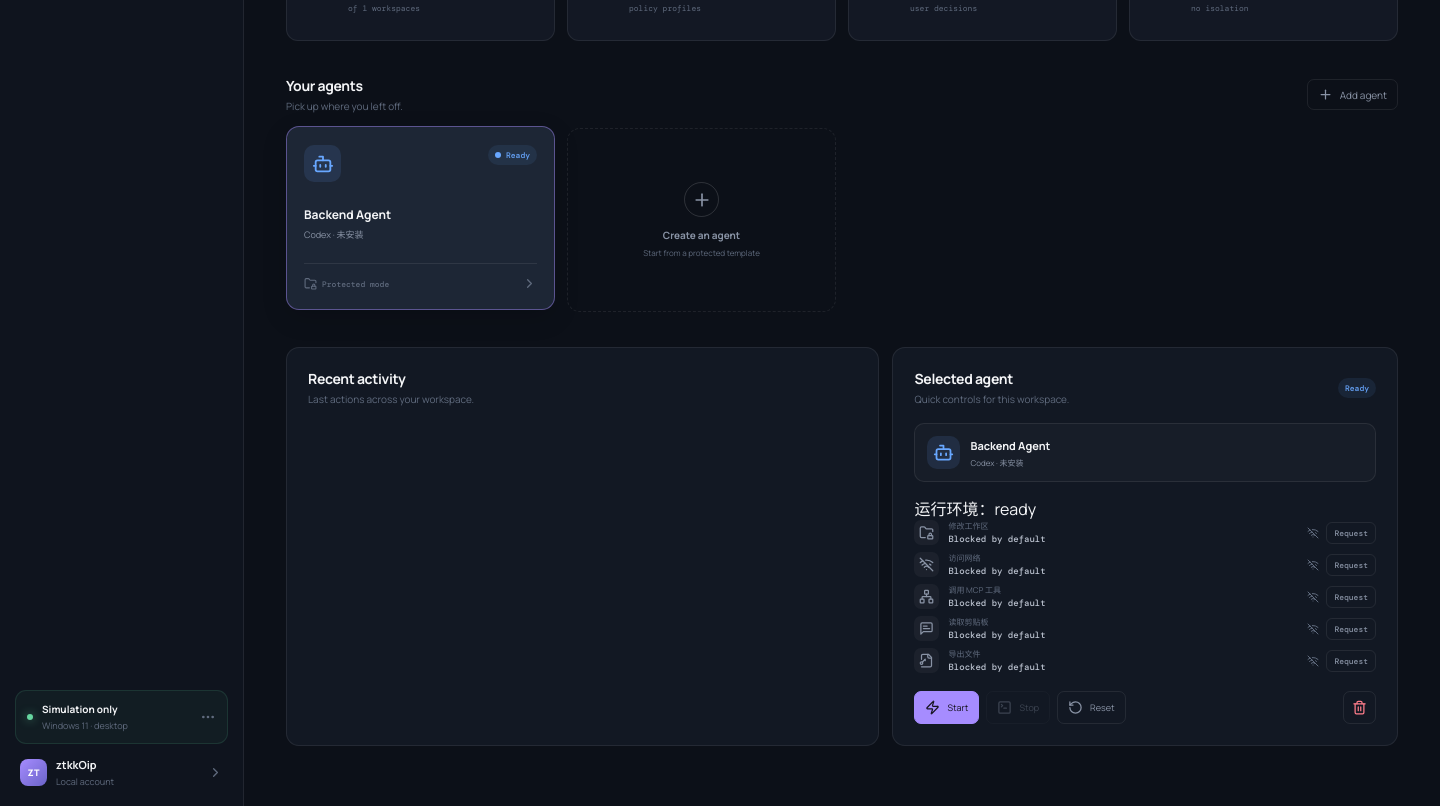
Test: console runtime UI › uses approval responses for permission changes, then revocation and deletion
(page scrolled)
Expected: the button "Start" is shown, [914,691,980,724]
What coordinates should you click on to do the following:
click the button "Request" in the row of "访问网络"
I would click on:
 (1351, 565)
Its box is [1326,554,1376,576].
(page scrolled)
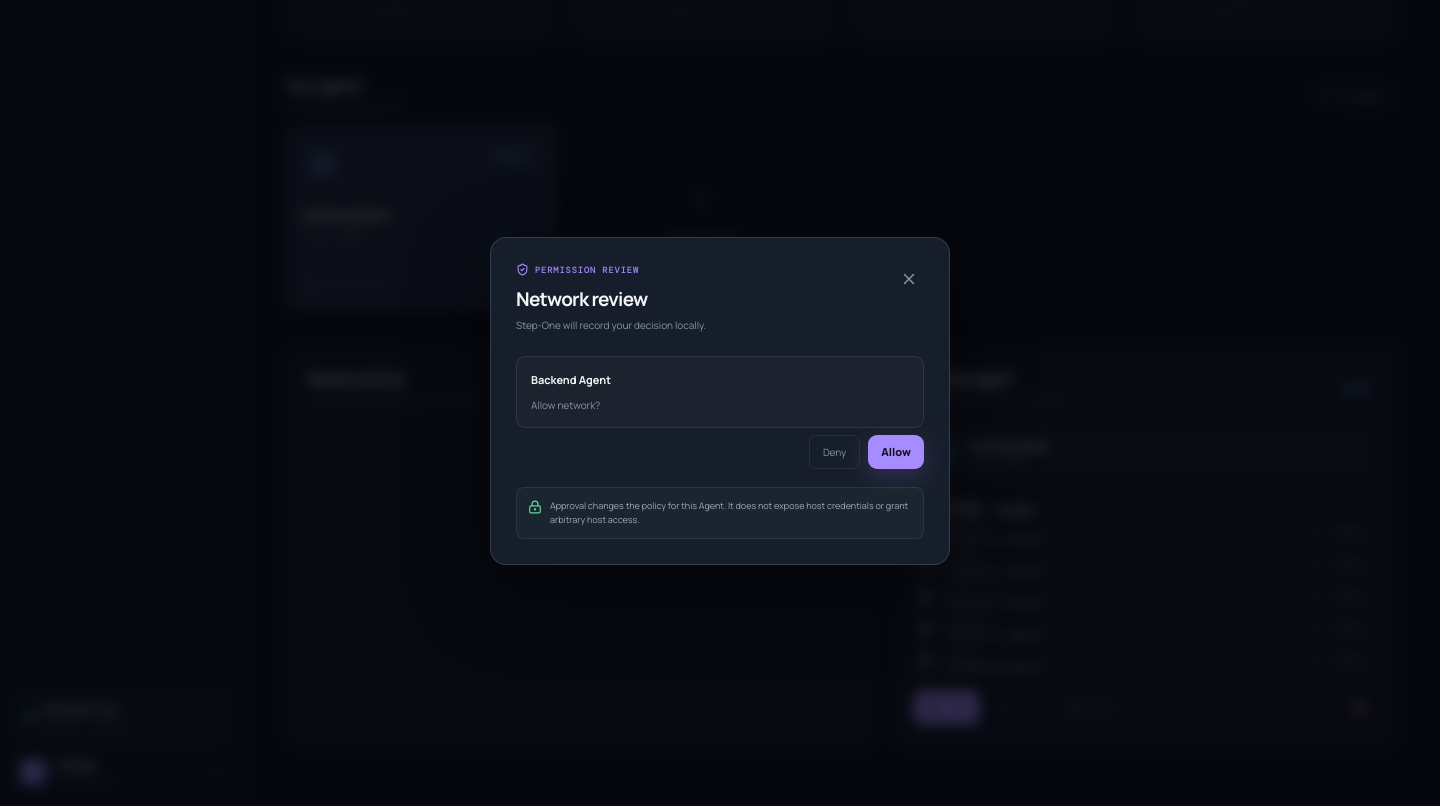
What coordinates should you click on to do the following:
click the button "Allow"
I would click on:
 (896, 452)
Its box is [868,435,924,469].
(page scrolled)
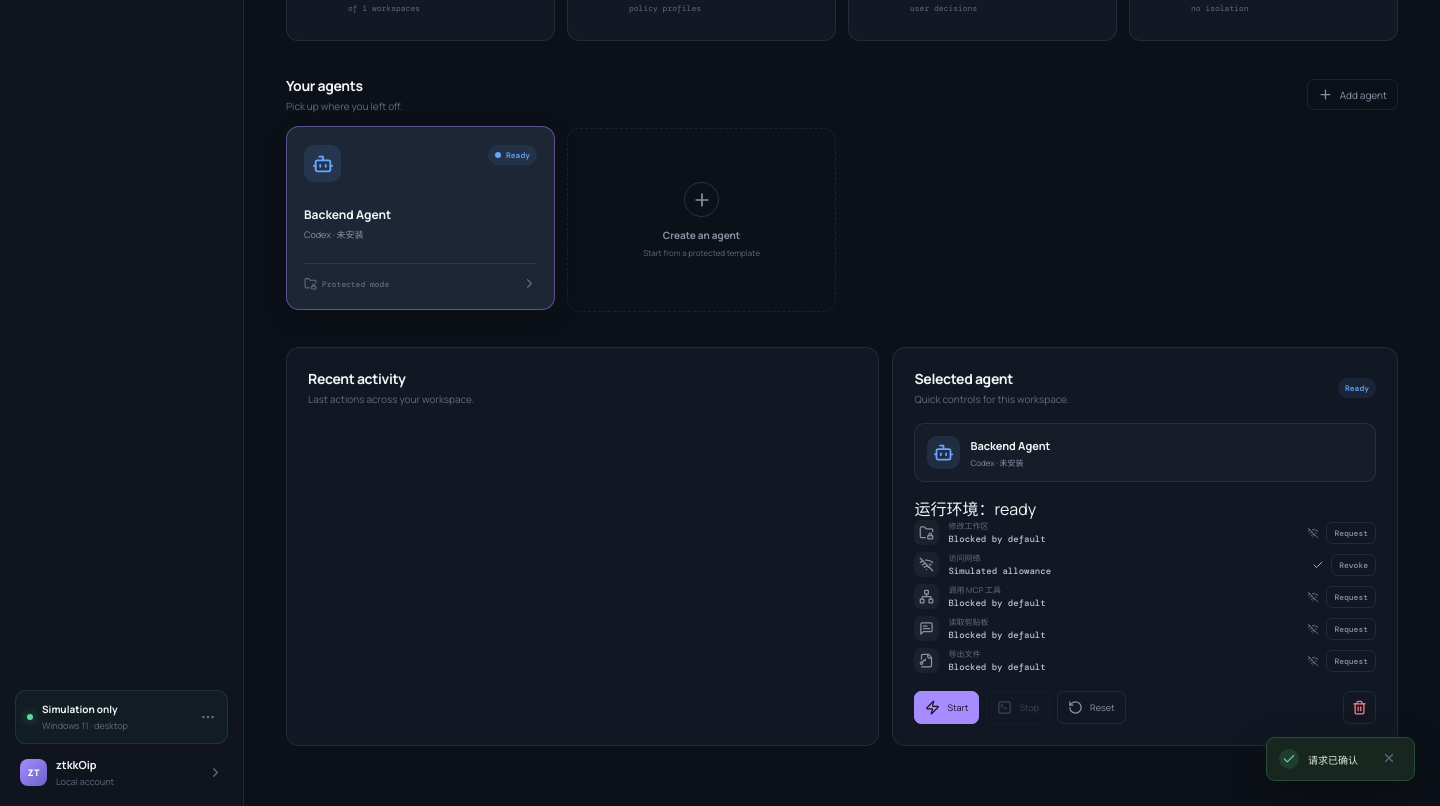
Expected: the text "Simulated allowance" is shown, [948,565,1051,577]
What coordinates should you click on to do the following:
click the button "Revoke"
I would click on:
 (1354, 565)
Its box is [1331,554,1376,576].
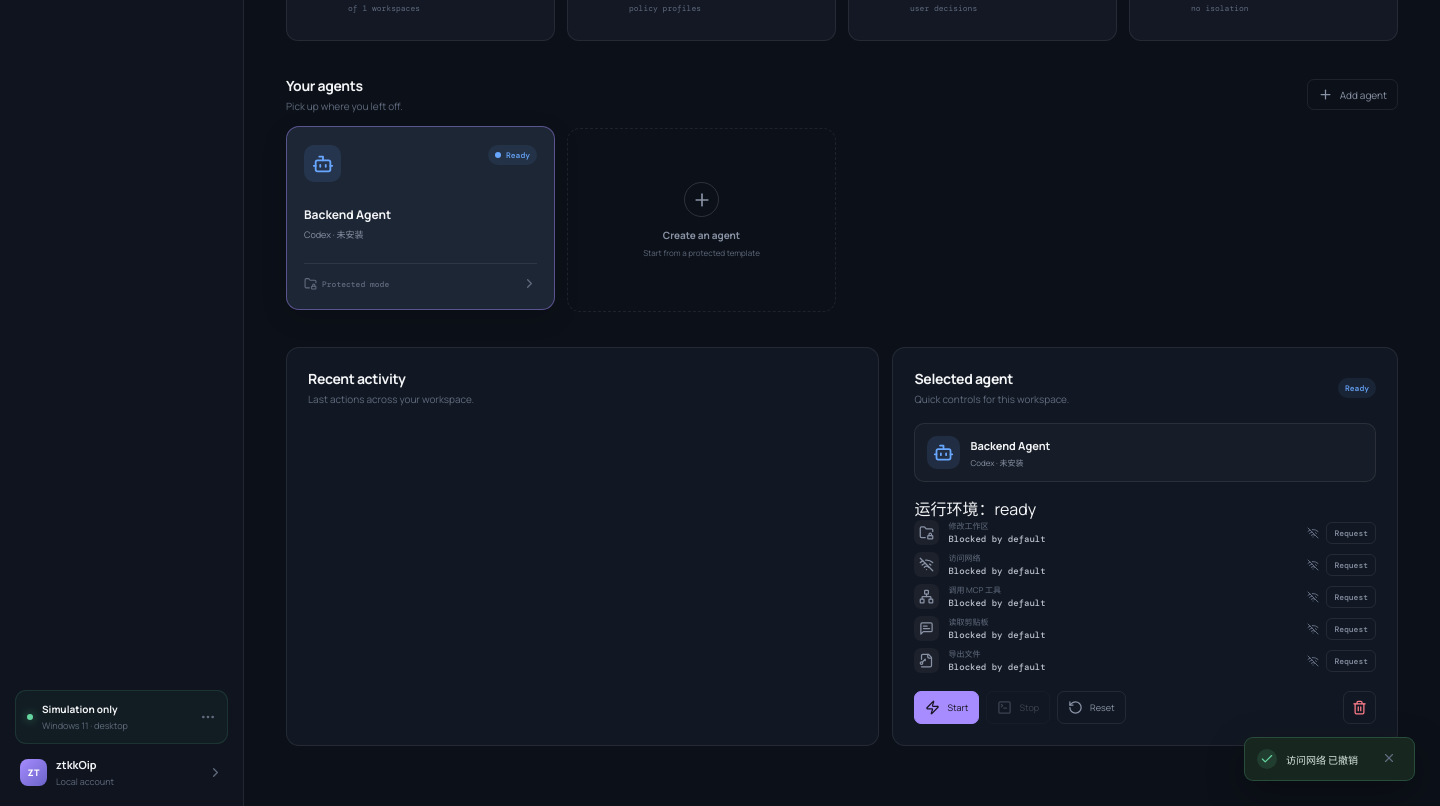
What coordinates should you click on to do the following:
click the button named "Delete agent"
I would click on:
 (1360, 708)
Its box is [1343,691,1376,724].
(page scrolled)
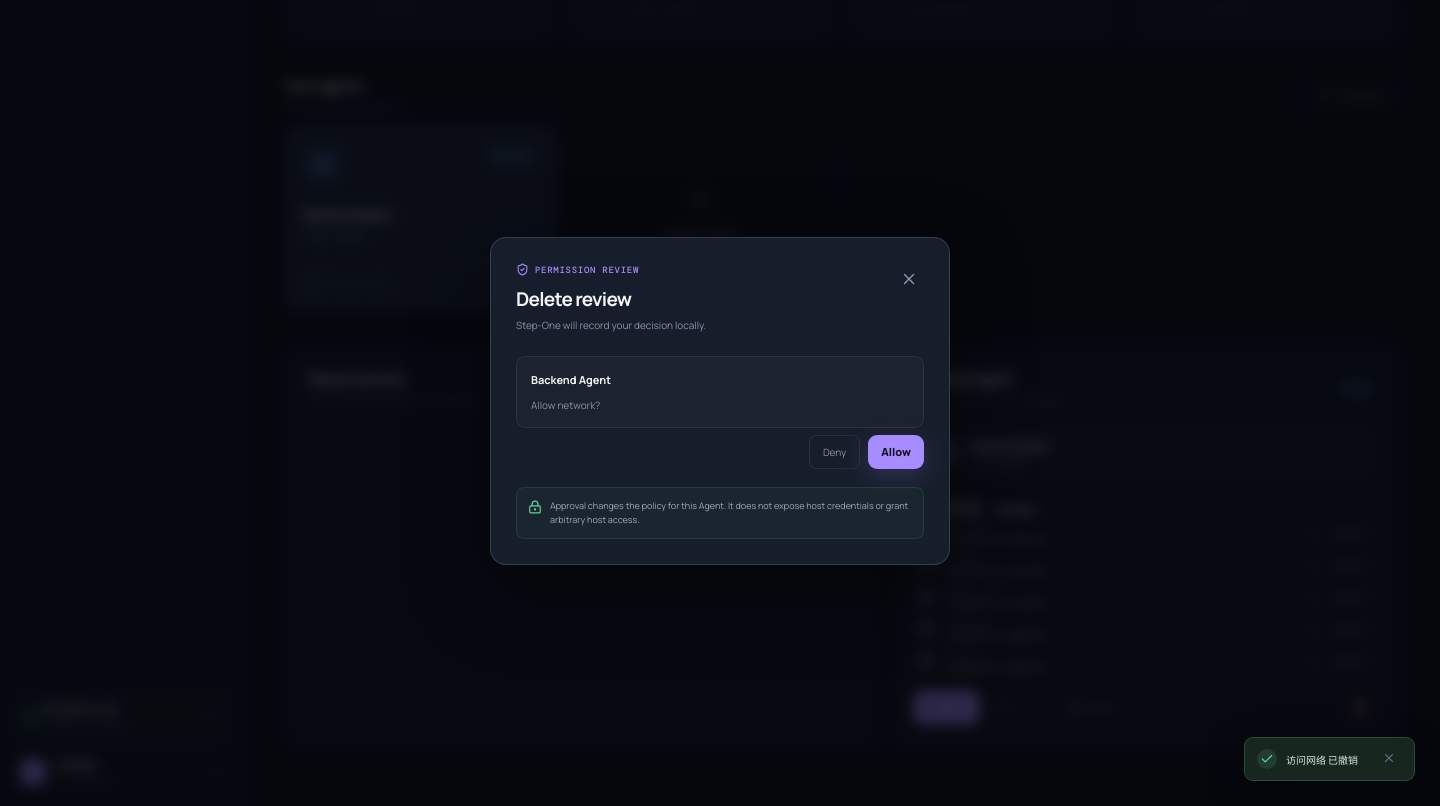
What coordinates should you click on to do the following:
click the button "Allow"
I would click on:
 (896, 452)
Its box is [868,435,924,469].
(page scrolled)
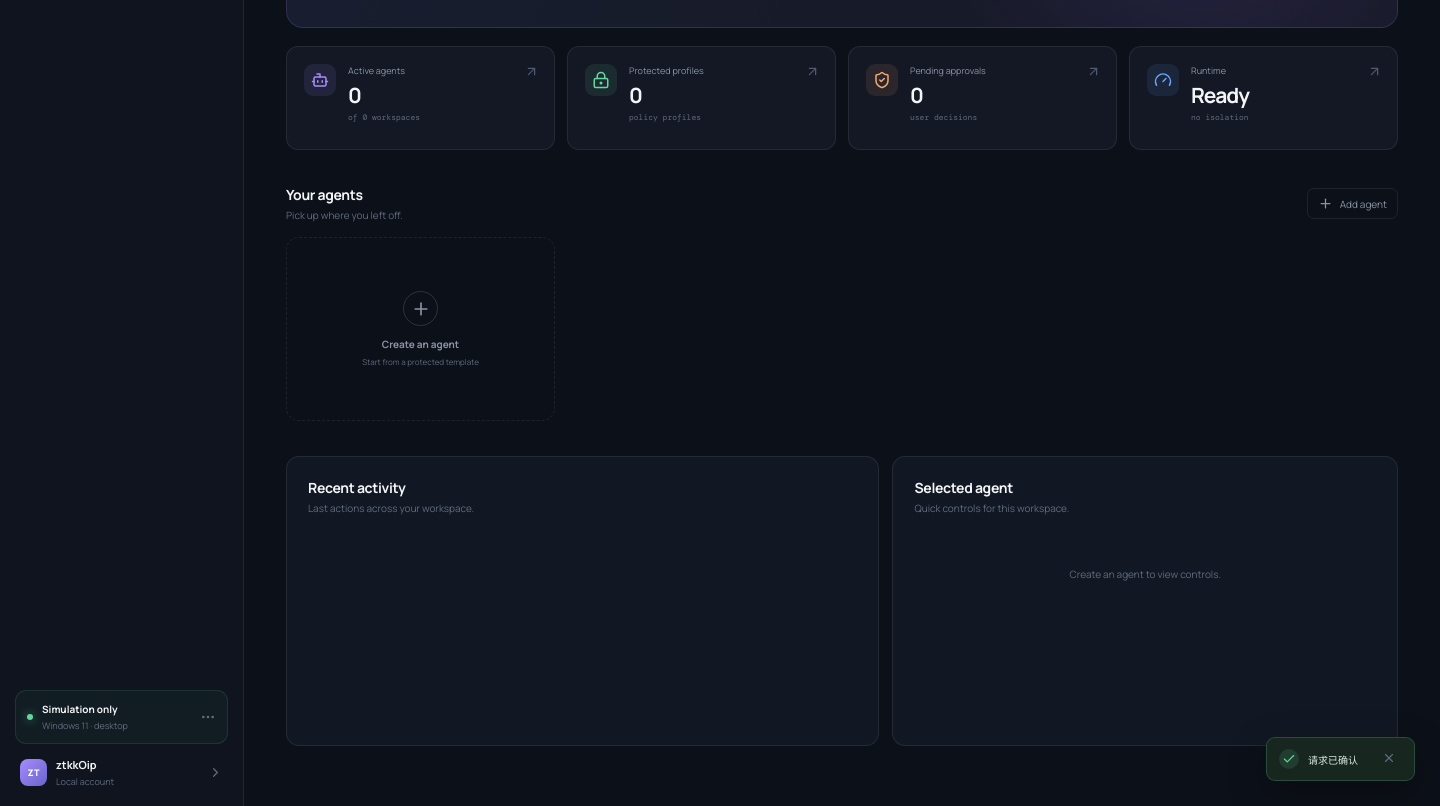
Expected: the text "Create an agent to view controls." is shown, [1070,567,1221,581]
